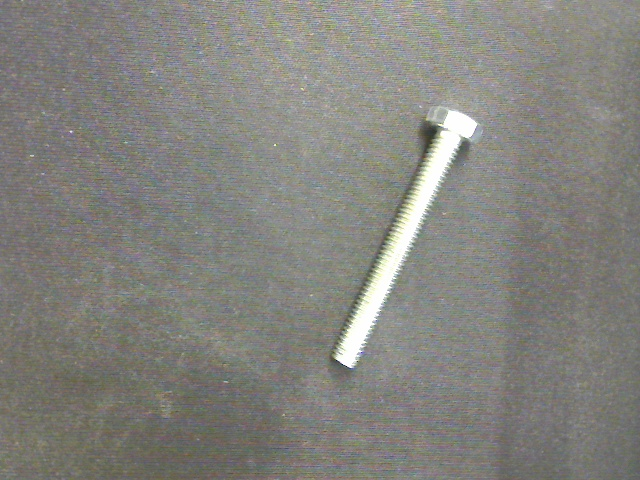screw: (329, 106, 483, 369)
